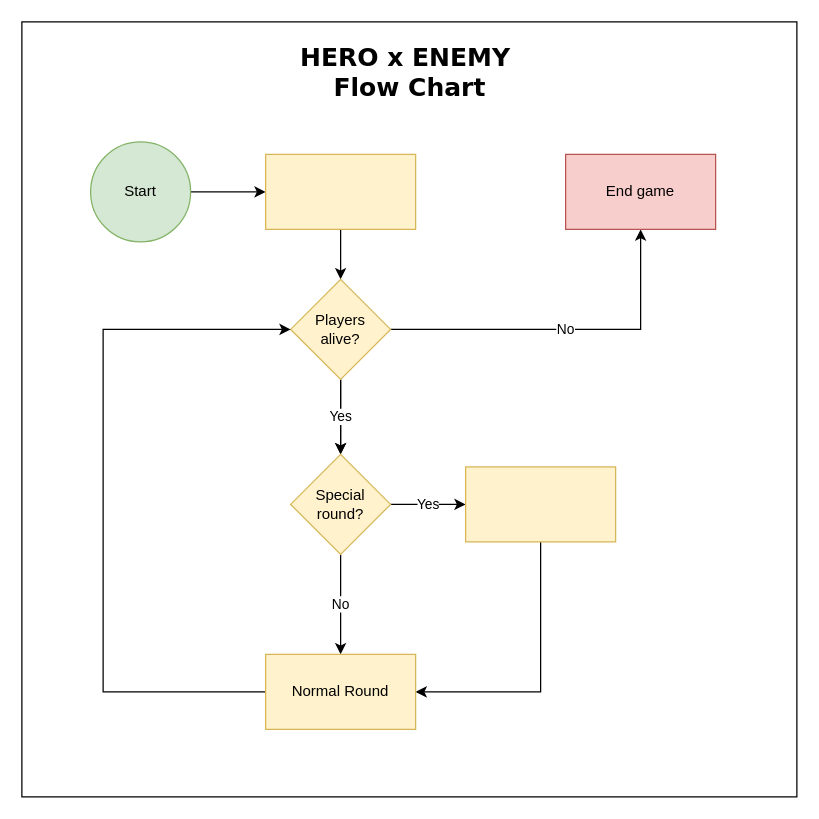
The diagram is 819 pixels wide and 819 high, and some of its shapes have lost their labels. Each missing label, with the centre of its shape:
"Potion round" goes at pixel 540 504.
"Title Screen" goes at pixel 340 191.
